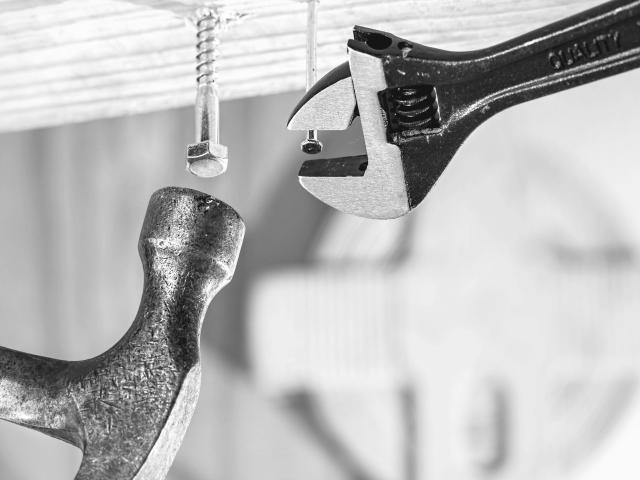Adjustable spanner: (288, 0, 640, 218)
Hammer: (0, 187, 245, 480)
